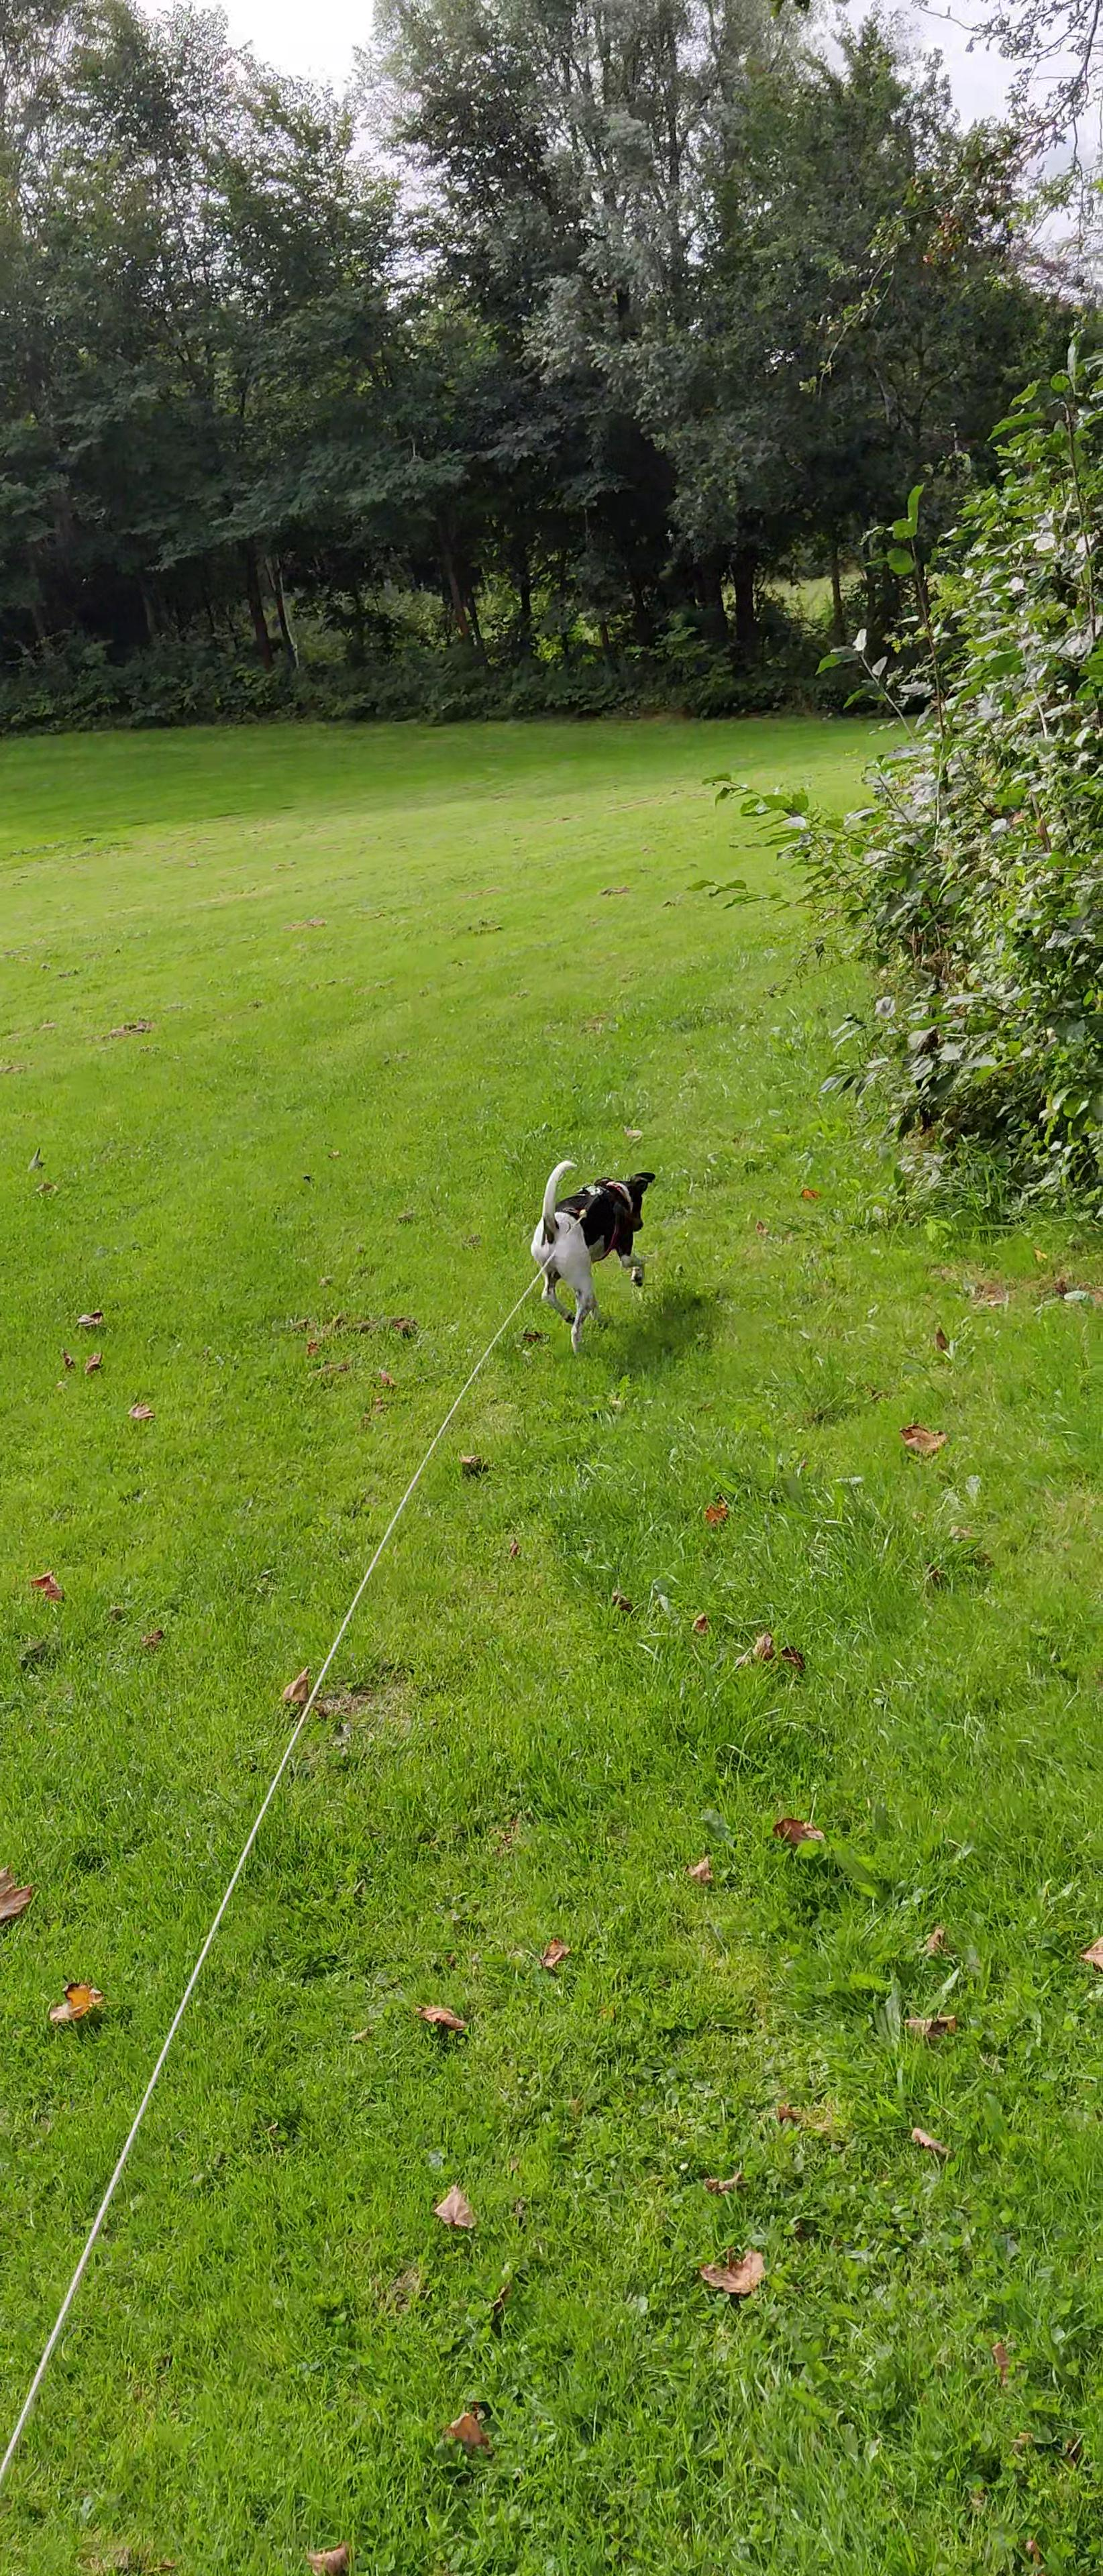Dog: (516, 1145, 671, 1370)
